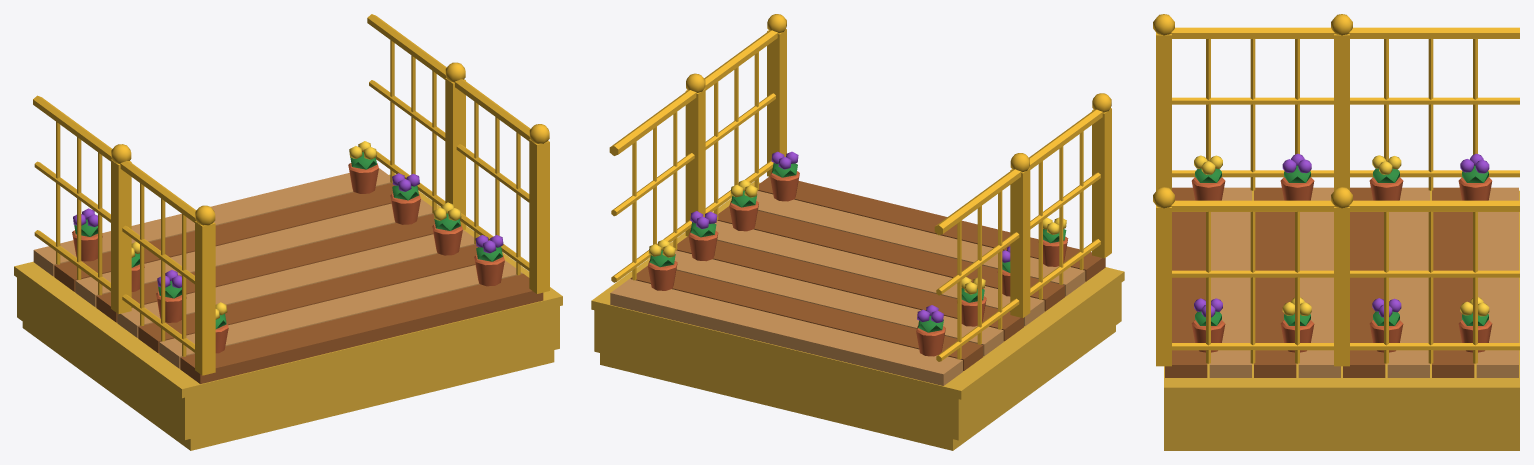
Rendered from golden_bridge_seg.glb.
3 views of the same model, side by side, from view 1: azimuth 30°, elevation 25°; view 2: azimuth 150°, elevation 25°; view 3: azimuth 270°, elevation 25° (orthographic). The views are drawn at different scales.
Visible parts, largest first — view 1: golden_bridge_seg; view 2: golden_bridge_seg; view 3: golden_bridge_seg.
Boxes of the visible parts, x1=… form: golden_bridge_seg: x1=14, y1=14, x2=562, y2=450; golden_bridge_seg: x1=591, y1=14, x2=1124, y2=450; golden_bridge_seg: x1=1153, y1=14, x2=1519, y2=450.
Size of the model in its own units: 2.62 by 1.58 by 2.06.
